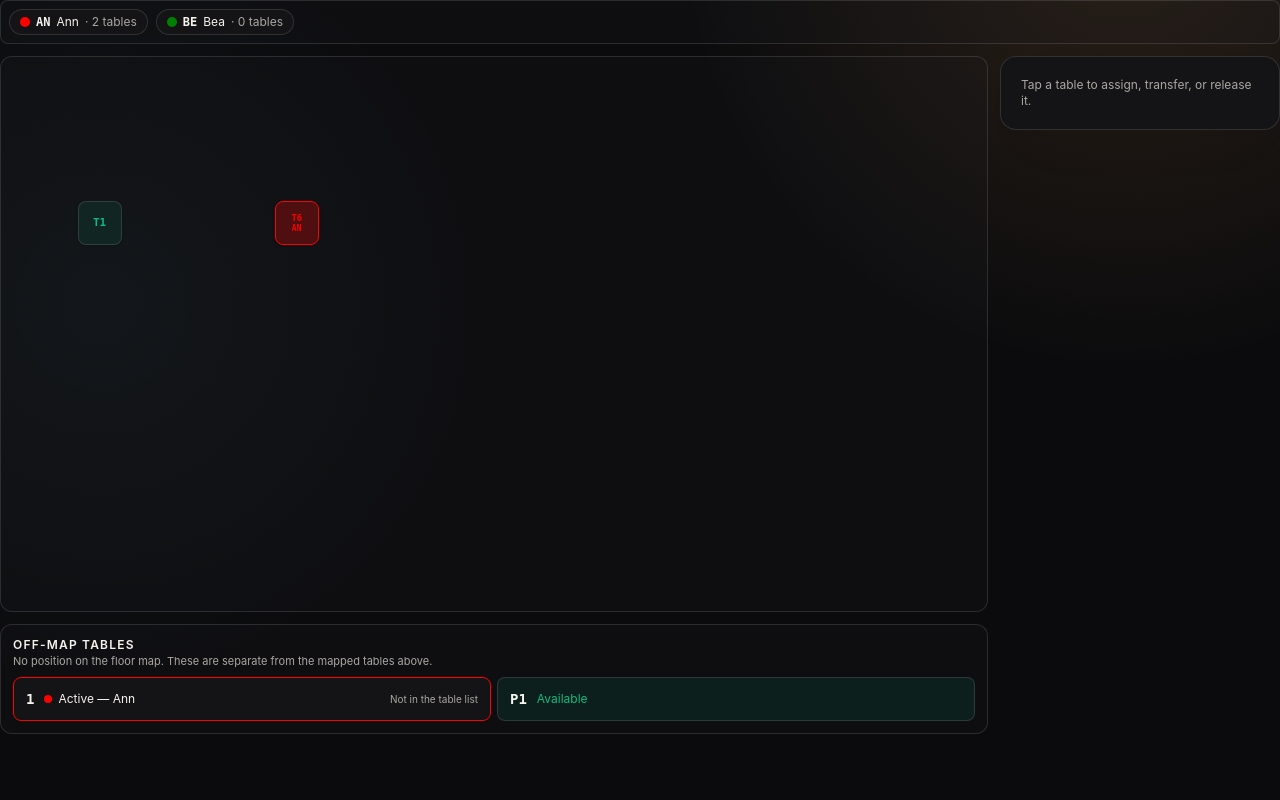
Test: Floor shows off-map tables without placing them on the map (X1) › an off-map owned table opens the same occupied-table panel
Step 1. Click the button with aria-label "Table 1, assigned to Ann, off-map" → [86, 699], box [13, 677, 491, 721]
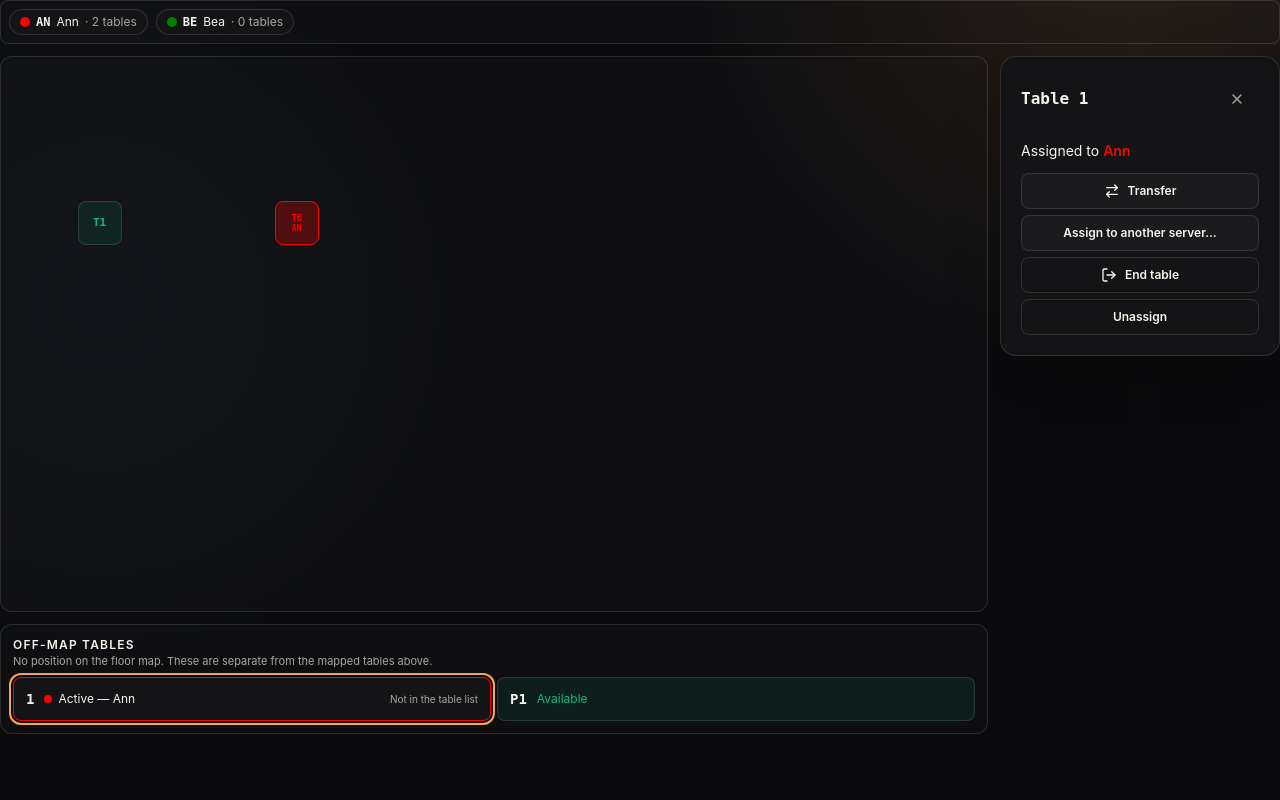
Expected: the button "Transfer" is shown, [1021, 173, 1259, 209]
Now the text "Assigned to" is shown, box [1021, 142, 1099, 159]
Now the button "Assign to another server…" is shown, box [1021, 215, 1259, 251]
